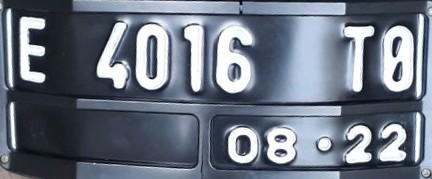plate: (4, 6, 431, 172)
